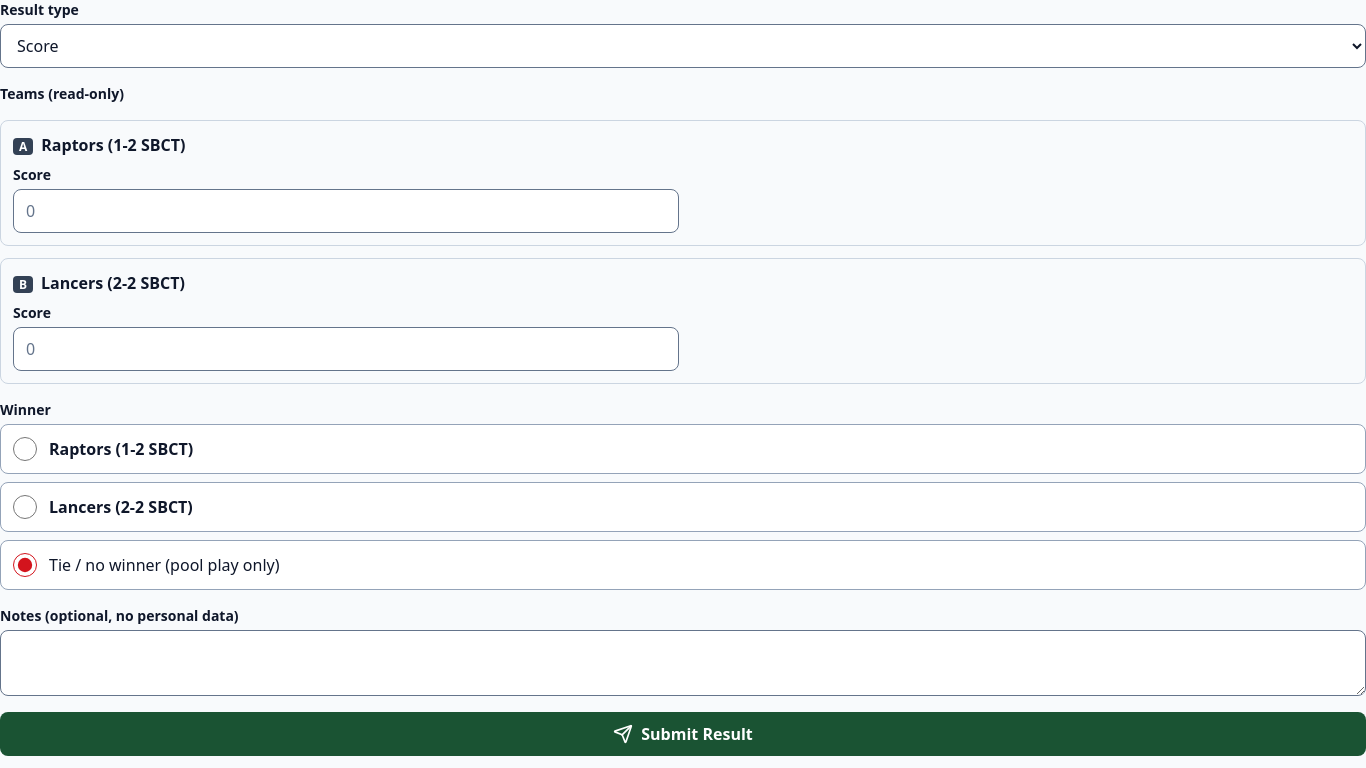
Test: ScoreEntryForm › submits a 2-1 result with the inferred winner (no referee step)
Expected: the text "Raptors (1-2 SBCT)" is shown, [41,134,185,156]
Type "2" into the field named "Score for Raptors (1-2 SBCT)" at (346, 211), box [13,189,679,233]
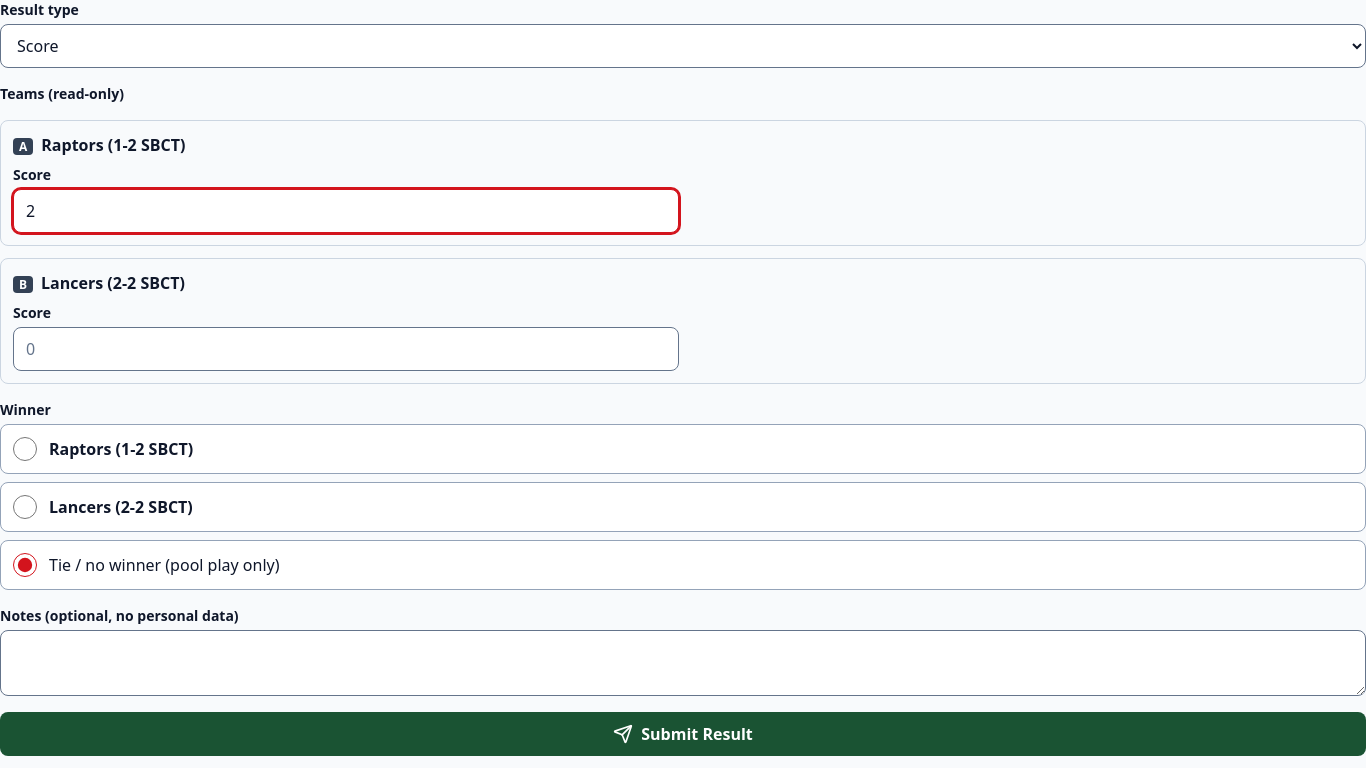
Type "1" into the field named "Score for Lancers (2-2 SBCT)" at (346, 349), box [13,327,679,371]
(page scrolled)
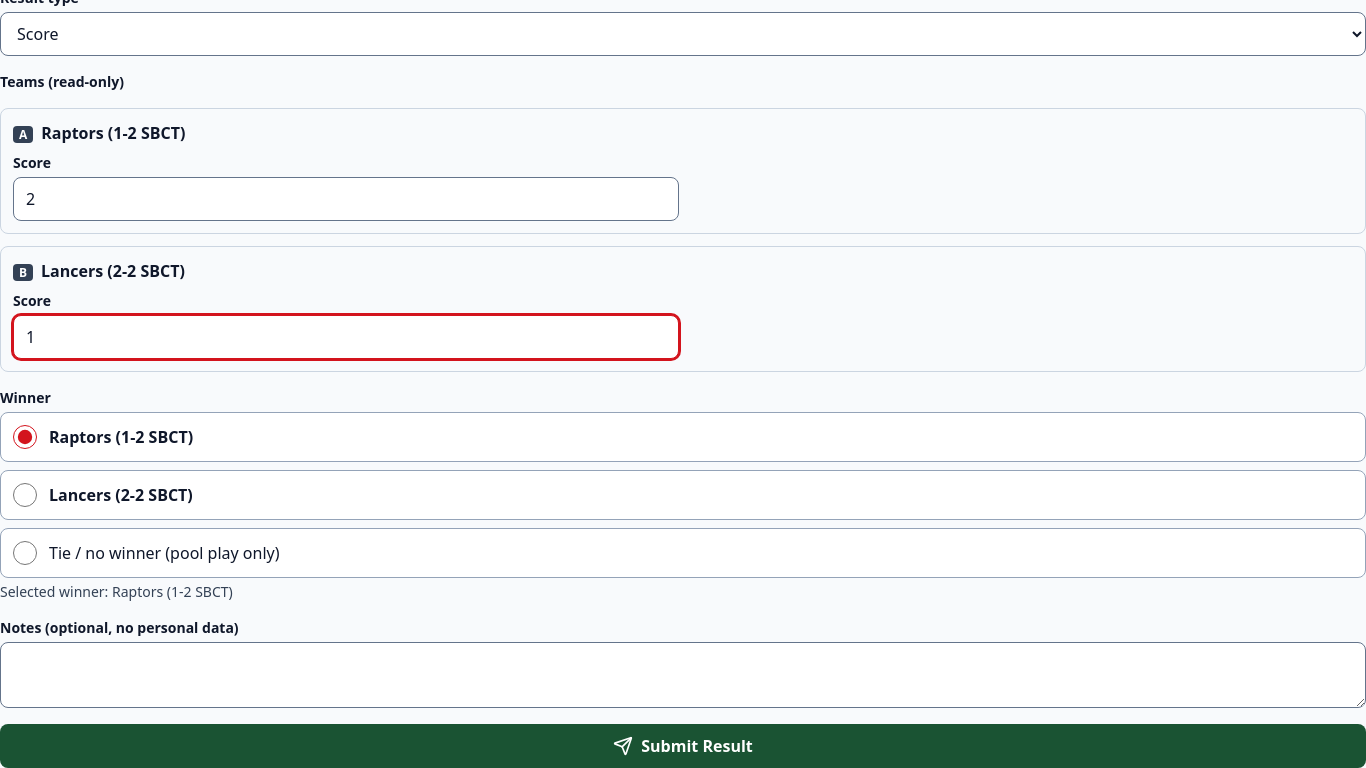
Click the button "Submit Result" at (683, 746), box [0,724,1365,767]
(page scrolled)
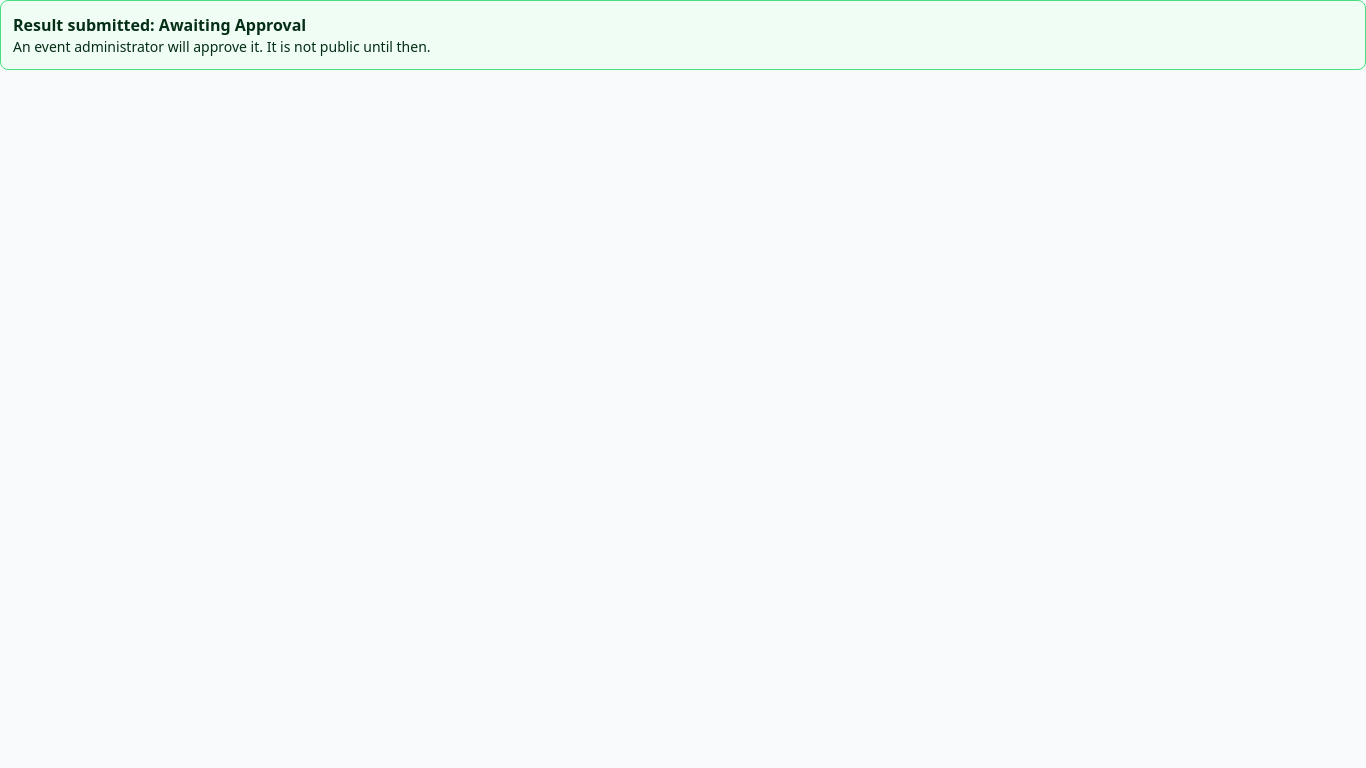
Expected: the text "Result submitted: Awaiting Approval" is shown, [13,14,306,36]
